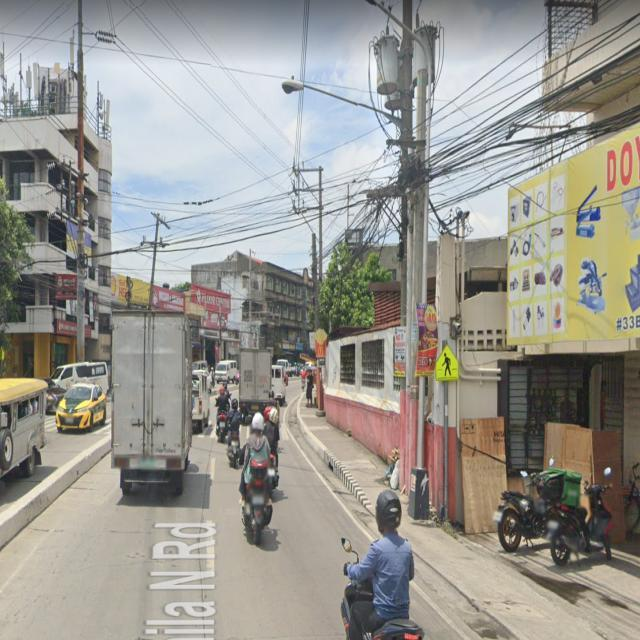pedestrian crossing: (434, 342, 461, 387)
